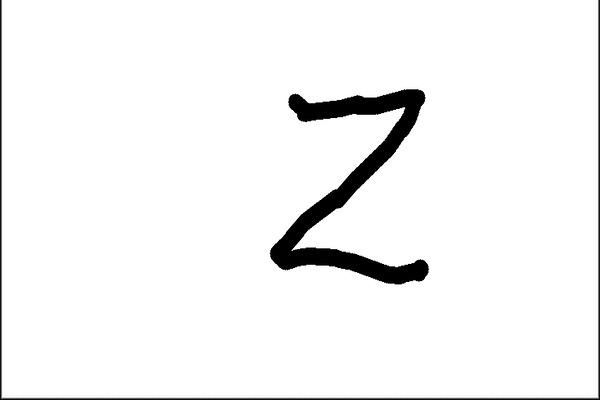Z: (266, 80, 437, 293)
